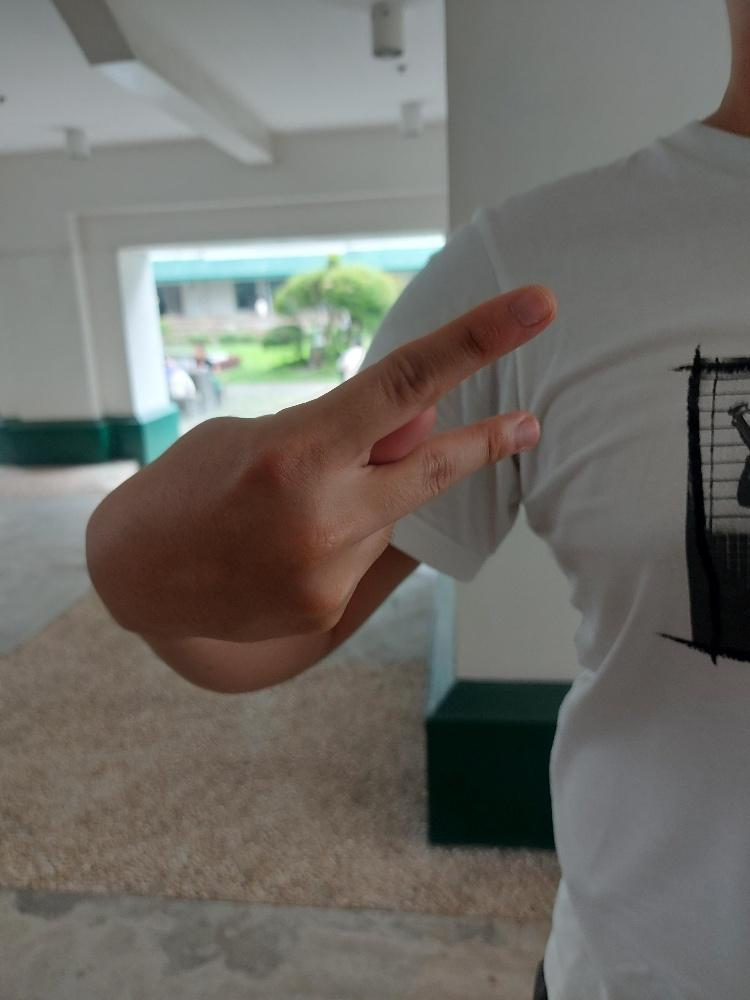k: (81, 278, 559, 645)
